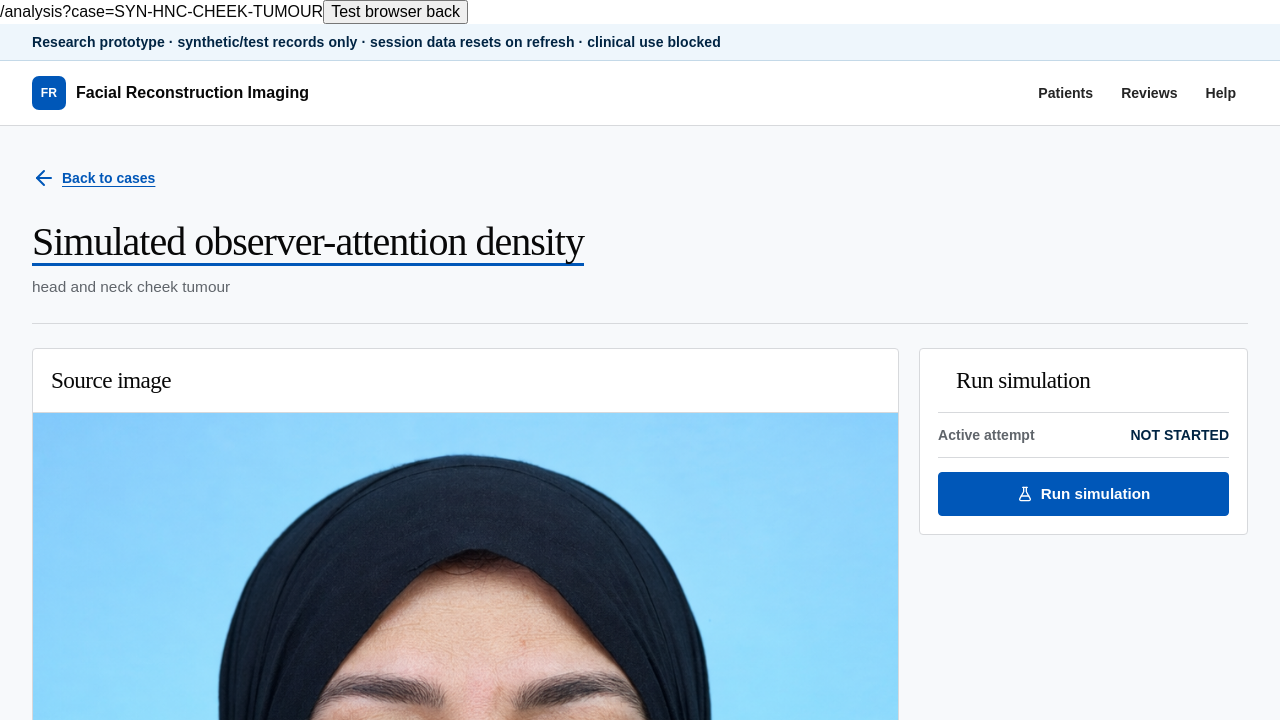
single-case simulated inference › never exposes mutable inference controls or settings-change branches
The width and height of the screenshot is (1280, 720).
Step 1. Click the button "Run simulation" → [1084, 494], box top-left (938, 472), bottom-right (1229, 516)
(page scrolled)
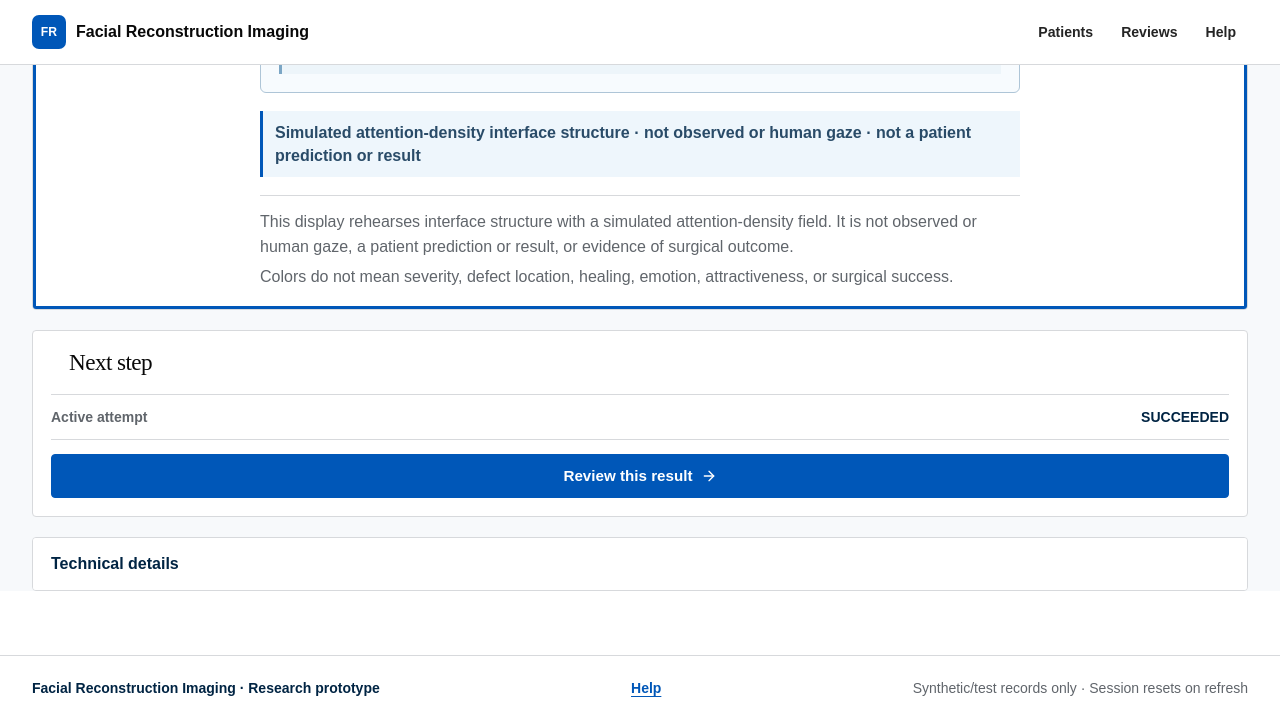
Expected: the link "Review this result" is shown, top-left (51, 454), bottom-right (1229, 498)
